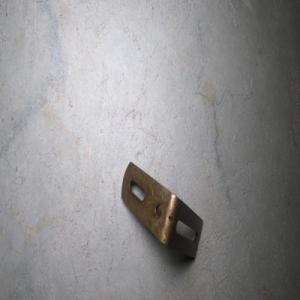MetalPart: (120, 160, 204, 261)
